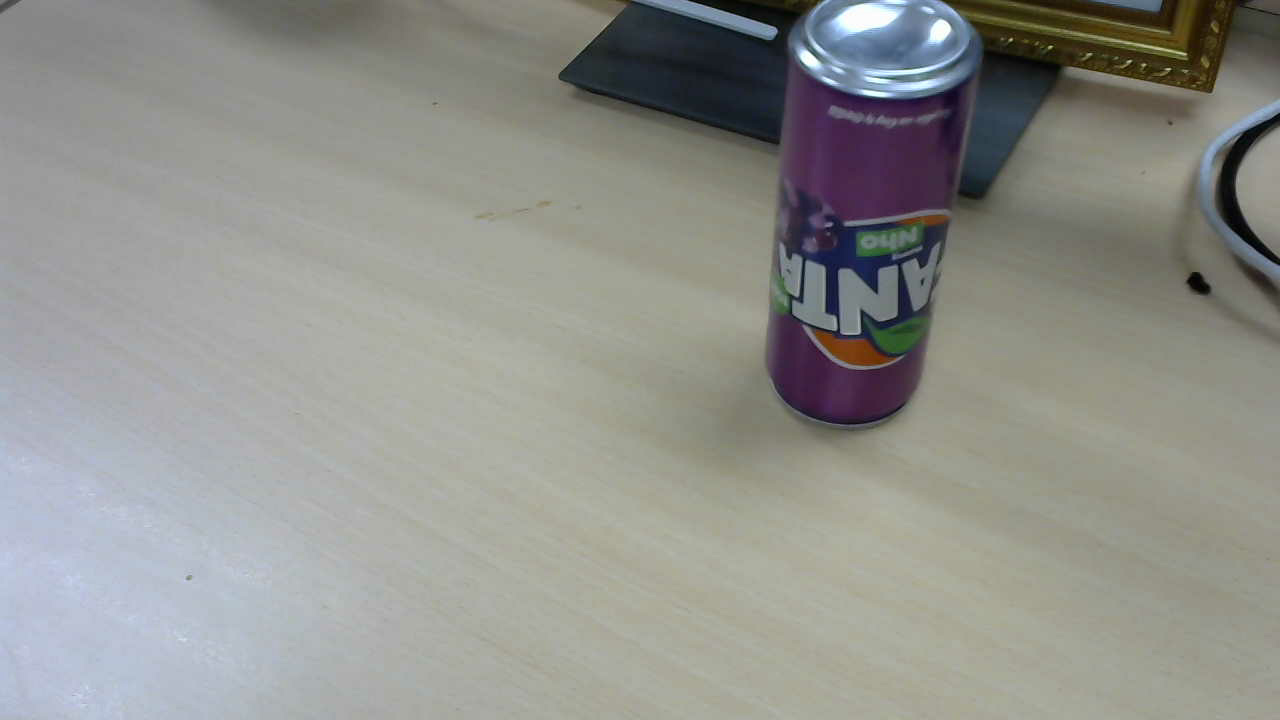Fanta: (769, 6, 985, 435)
